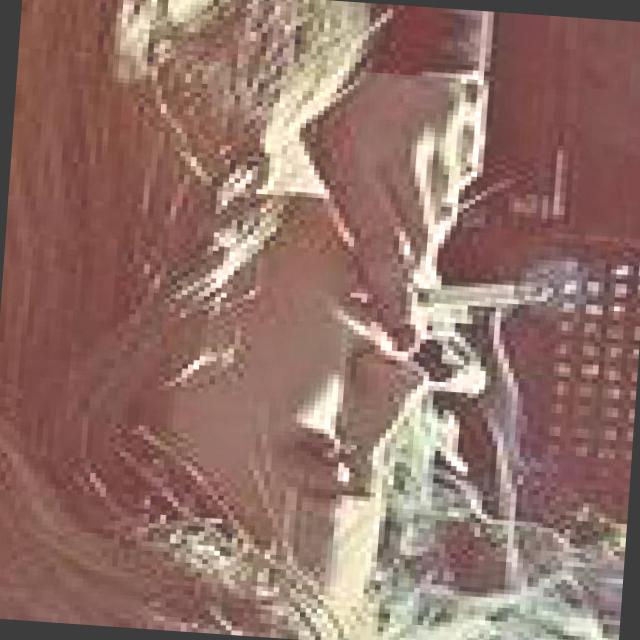smoke: (360, 261, 565, 325)
